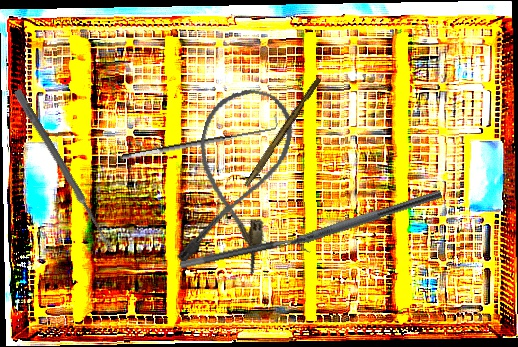Cannula: (171, 78, 301, 281)
Chopper: (260, 177, 443, 259)
Fixation Ring: (179, 233, 312, 280)
Hook Surgical: (119, 114, 280, 162)
Scalpel Handle: (243, 75, 323, 190)
Surgical Spoon: (12, 88, 116, 253)
